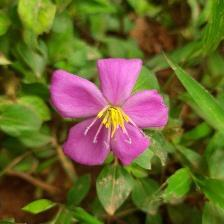malabar melastome: (48, 58, 173, 170)
